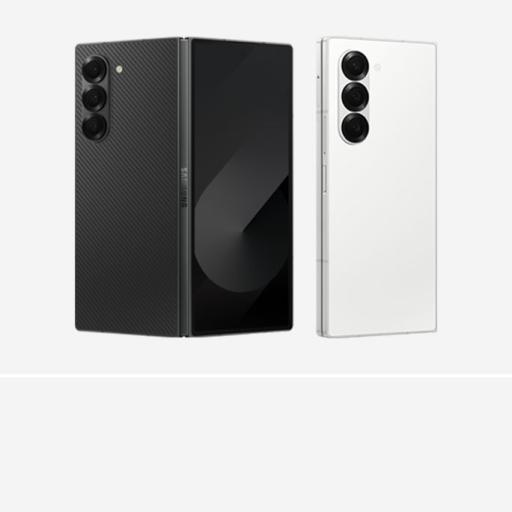phone: (314, 32, 444, 346)
